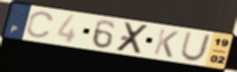4: (55, 13, 80, 45)
6: (92, 19, 117, 50)
C: (25, 10, 56, 40)
K: (152, 27, 181, 59)
U: (178, 31, 213, 63)
X: (113, 21, 152, 56)
